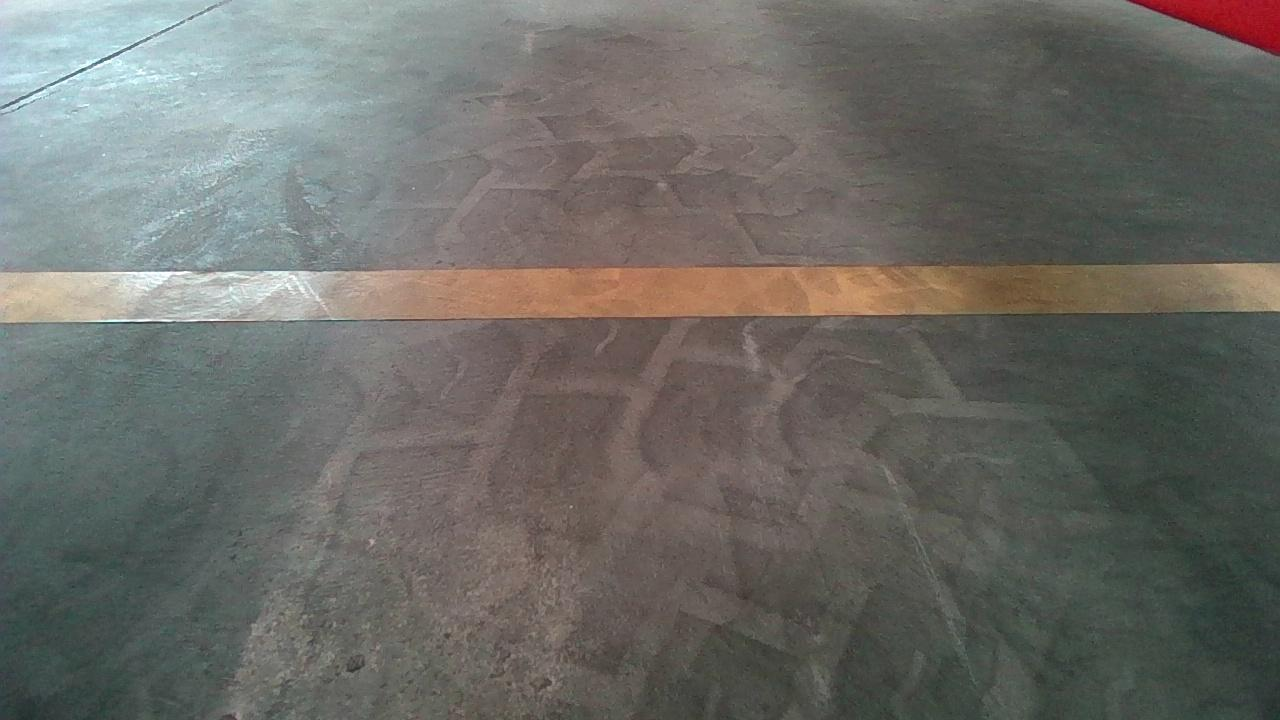yellow_line: (7, 257, 1265, 325)
